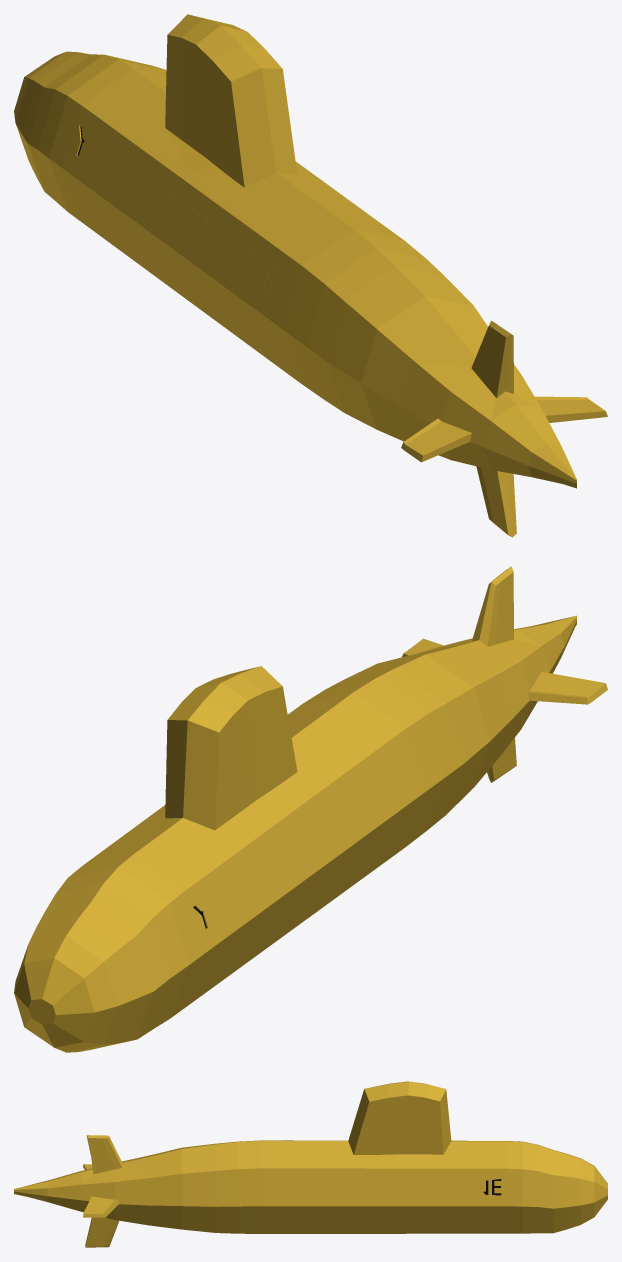
Rendered from submarrine.fbx.
3 renders of one model, top to bottom at view 1: azimuth 30°, elevation 25°; view 2: azimuth 150°, elevation 25°; view 3: azimuth 270°, elevation 25°, orthographic. The views are drawn at different scales.
Parts seen in each view (by area): view 1: Circle; view 2: Circle; view 3: Circle.
Boxes of the visible parts, box(x1,y1,x2,y2) form: Circle: box(14, 14, 607, 537); Circle: box(14, 566, 607, 1052); Circle: box(14, 1081, 607, 1247).
Bounding box in the file's own units: 234 × 357 × 1157.
